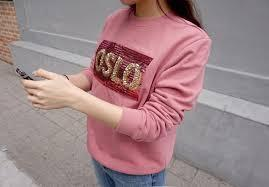sweater: (64, 11, 213, 159)
